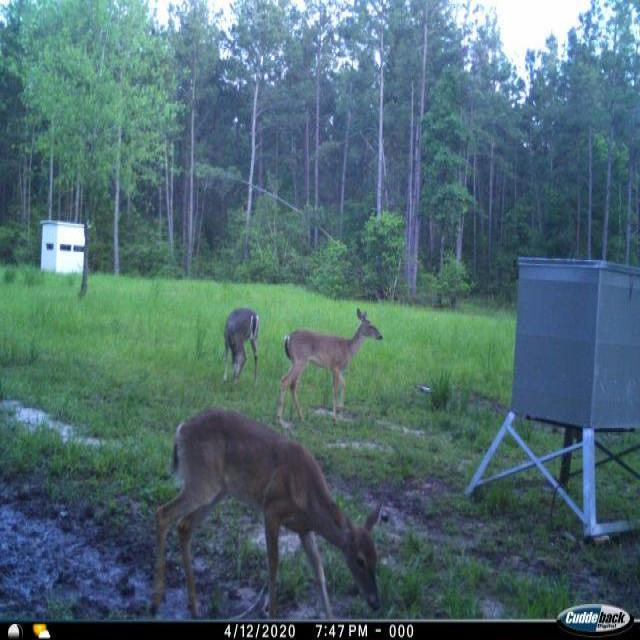deer: (150, 406, 394, 622), (276, 305, 390, 431), (220, 306, 267, 393)
